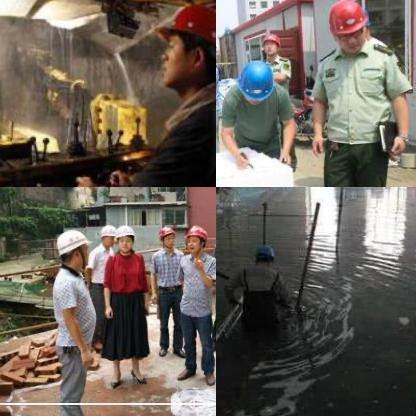Helmet: (151, 0, 215, 96), (326, 0, 367, 54), (236, 58, 274, 102), (53, 227, 90, 269), (253, 240, 279, 270), (182, 223, 206, 253), (112, 220, 134, 250), (157, 222, 175, 246), (262, 32, 280, 54), (100, 222, 116, 244)
